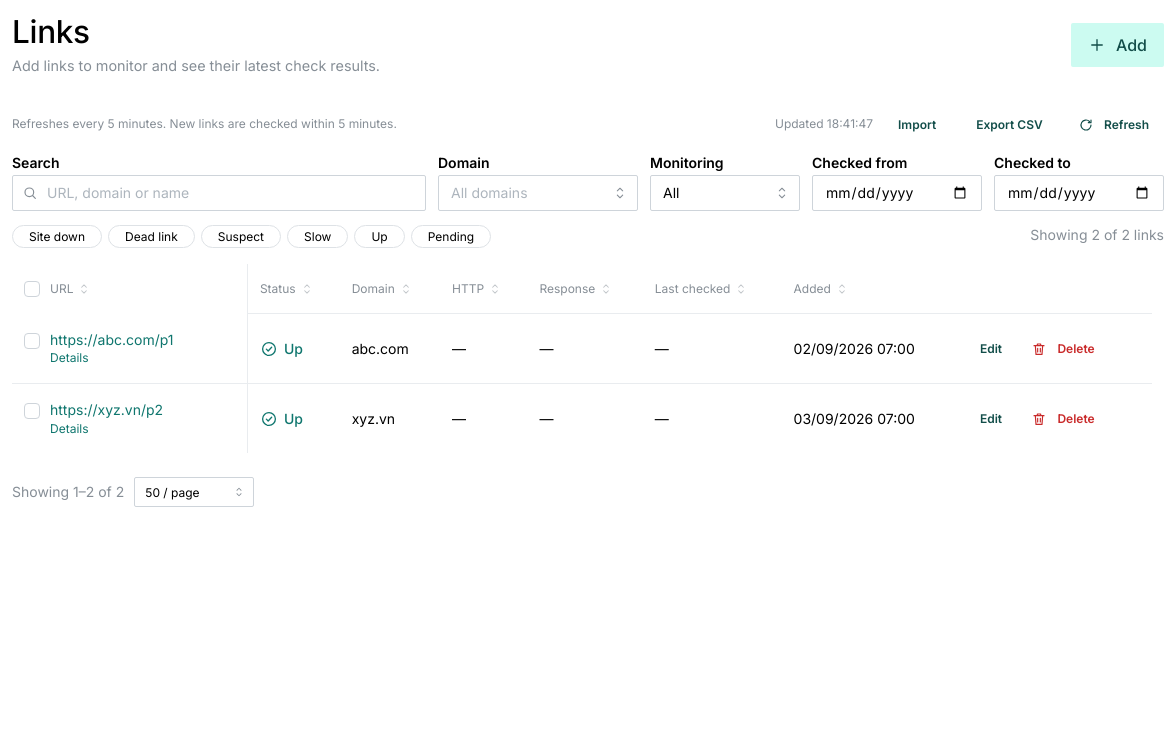
Test case: LinksPage — bulk actions (FR-04, FR-16) › FR-04: delete needs a confirming click; the rows disappear without waiting for the snapshot
Expected: the link "https://abc.com/p1" is shown, left=50, top=330, right=174, bottom=350
Click the checkbox named "Select all links on this page" at (32, 289), box left=24, top=281, right=40, bottom=297
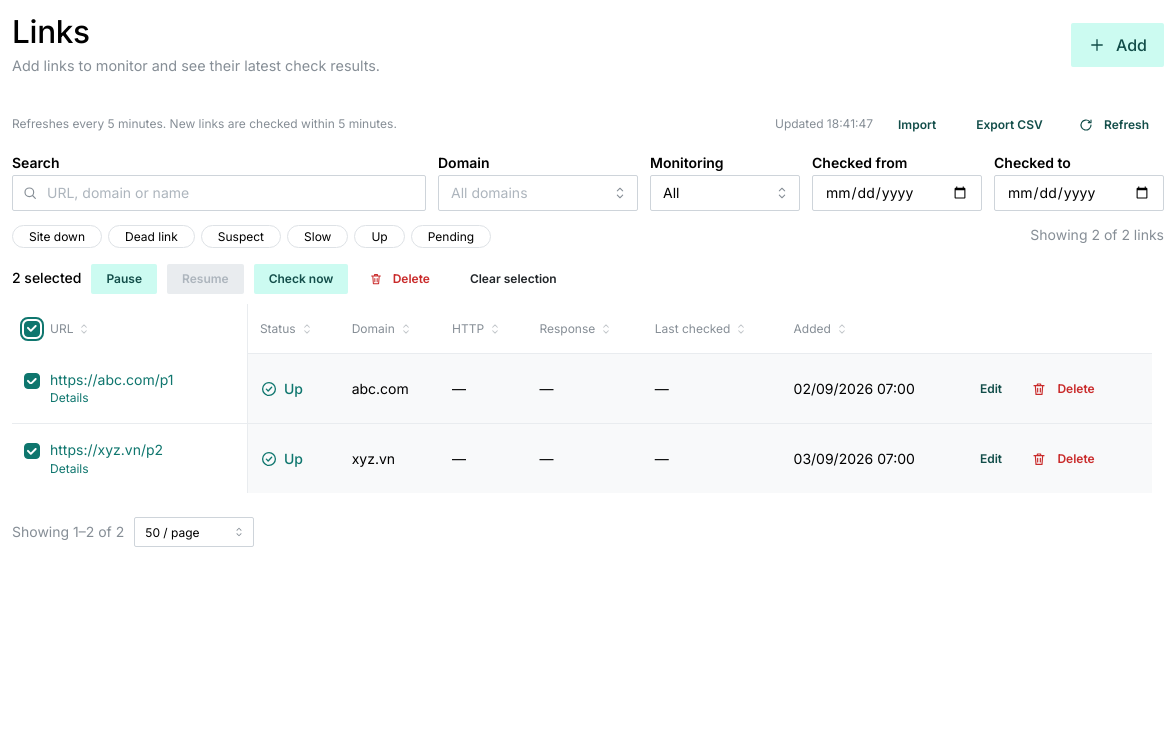
Click the button "Delete" in the row of "2 selected" at (402, 278), box left=358, top=264, right=445, bottom=294
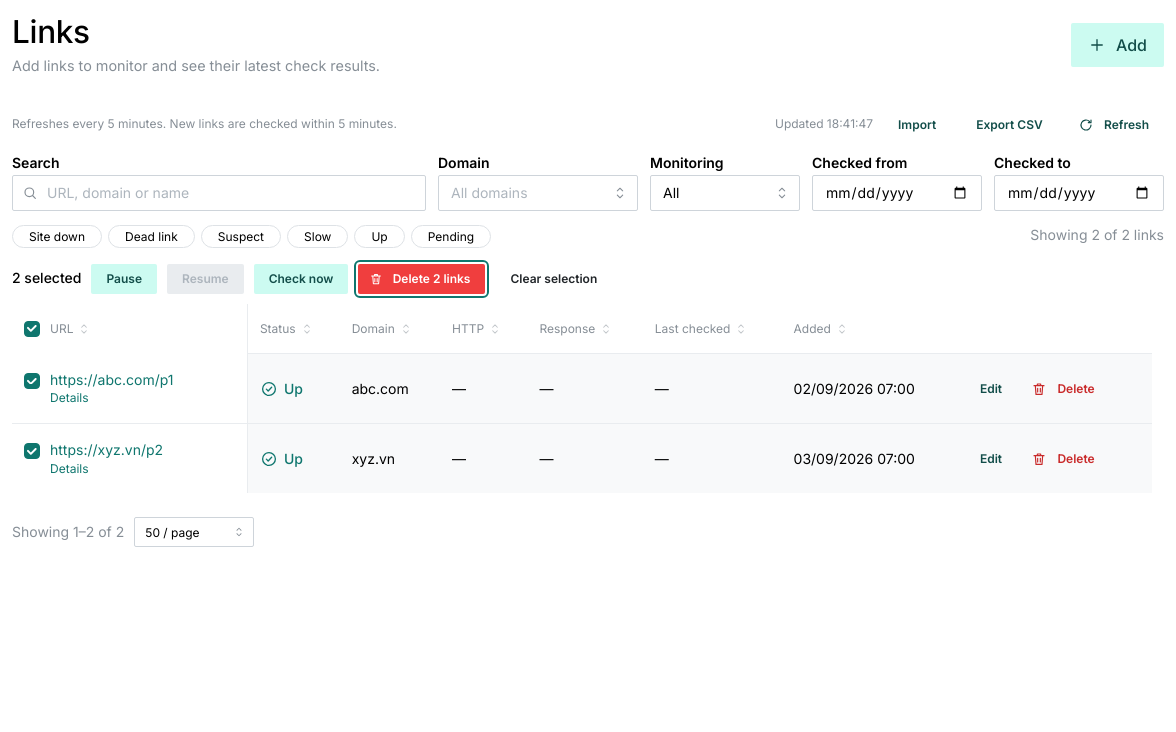
Click the button "Delete 2 links" at (422, 278), box left=358, top=264, right=485, bottom=294
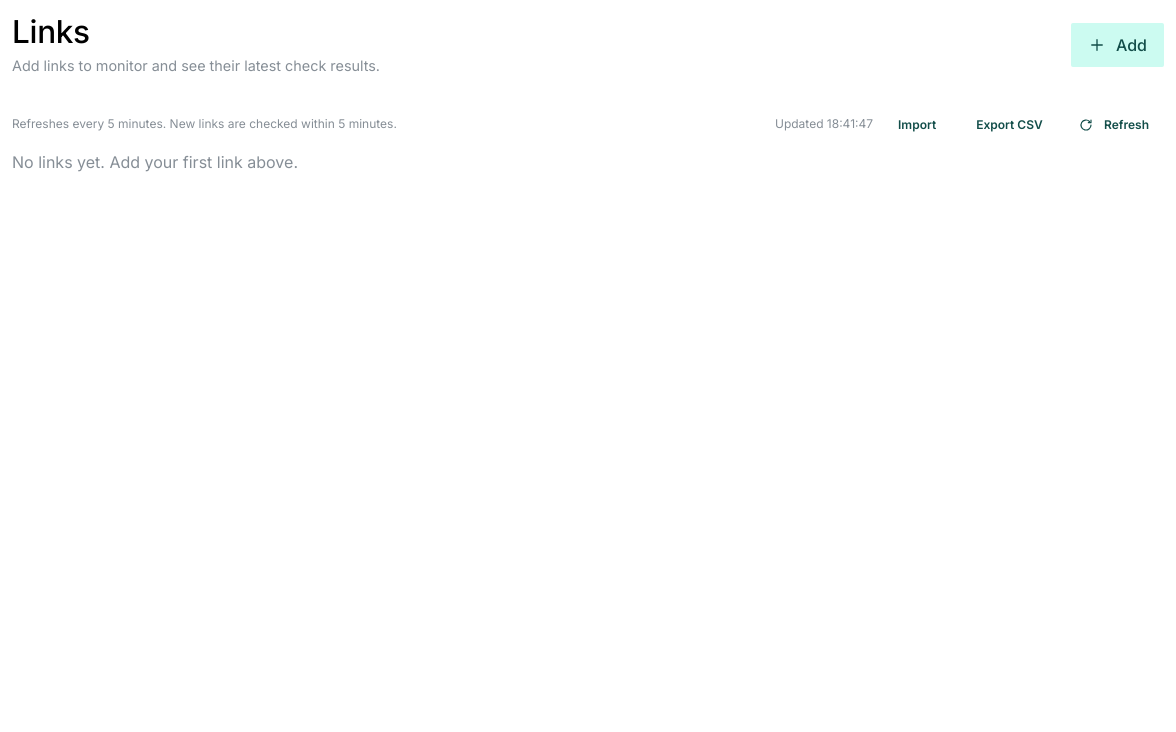
Expected: the text "No links yet. Add your first link above." is shown, left=12, top=152, right=298, bottom=172
